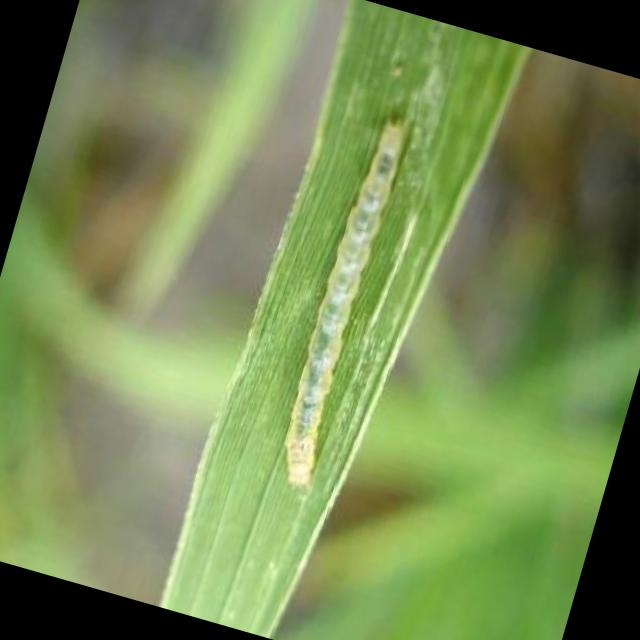leaf-folder: (225, 72, 469, 554)
